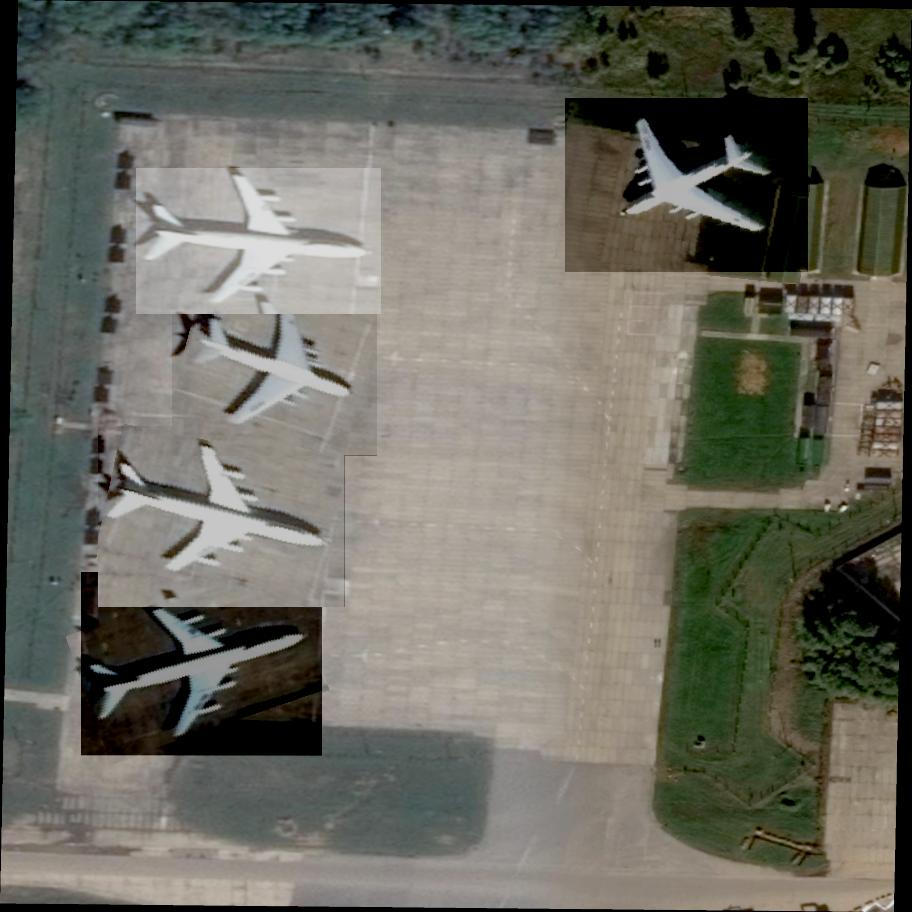plane: (566, 62, 808, 301), (74, 573, 325, 757), (98, 427, 345, 610), (172, 279, 377, 460), (136, 166, 382, 316)
